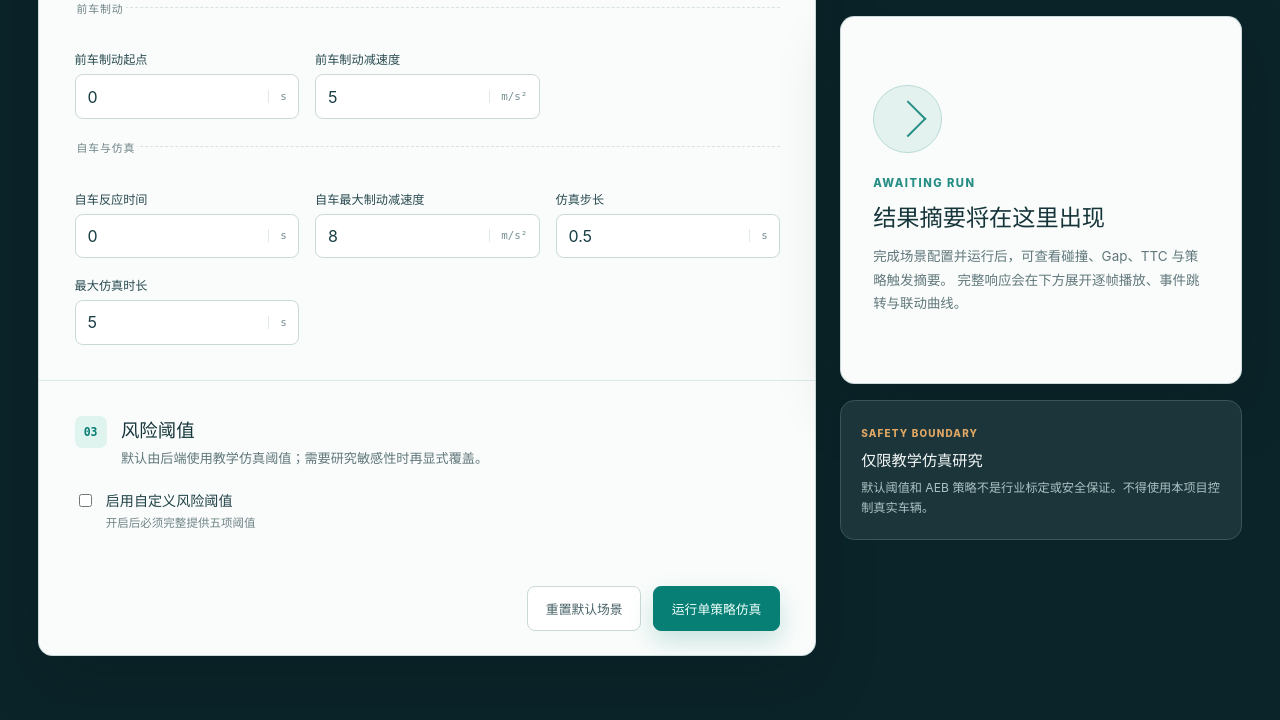
Dashboard configuration workflow › maps a backend field error into the form
(page scrolled)
Click the button "运行单策略仿真".
click(717, 609)  # box x1=653 y1=586 x2=780 y2=631
(page scrolled)
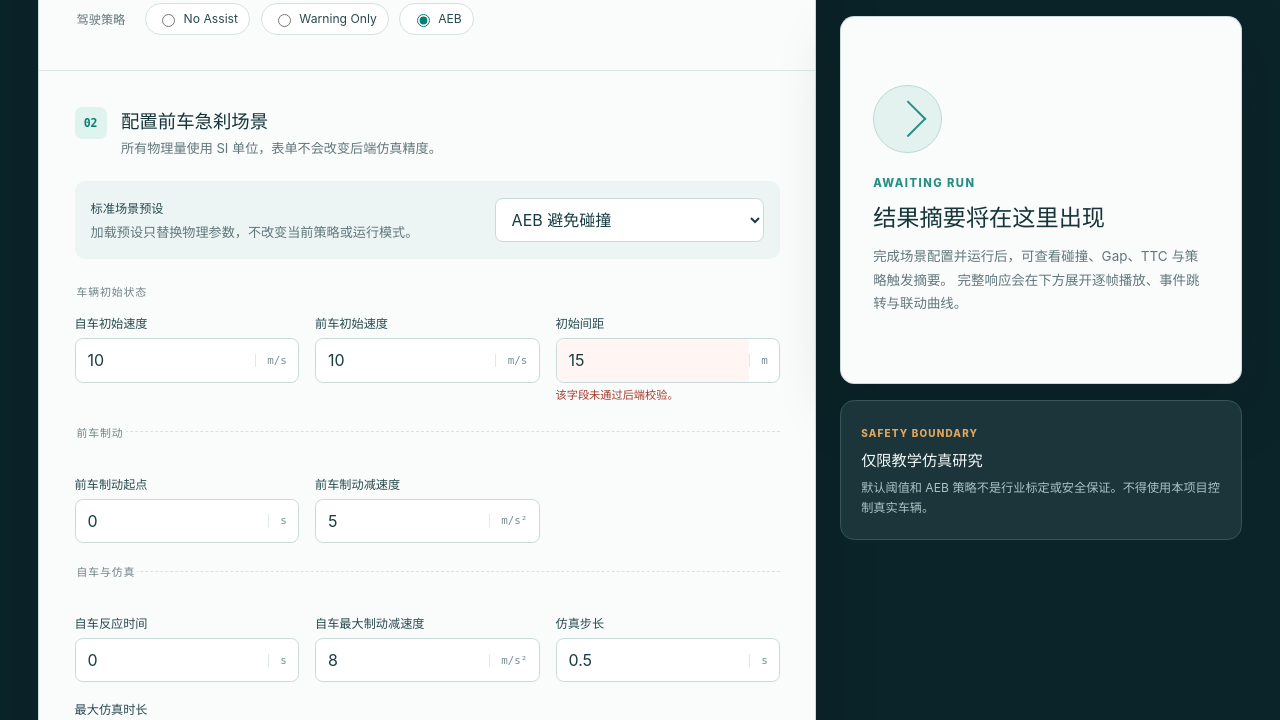
Now the text "该字段未通过后端校验。" is shown, box x1=556 y1=388 x2=679 y2=402
